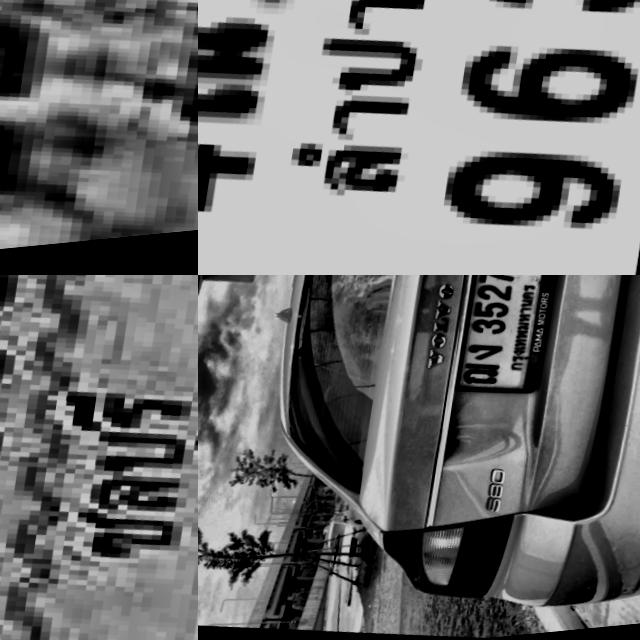license-plate: (198, 0, 640, 275), (0, 275, 198, 640), (0, 0, 198, 275), (449, 275, 558, 407)
